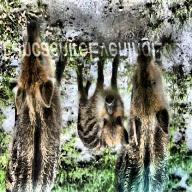boar: (105, 45, 183, 192), (16, 18, 72, 191), (72, 41, 131, 158)
